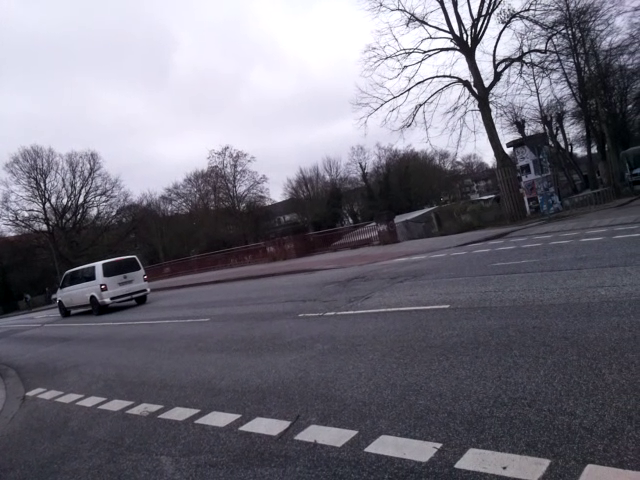car: (54, 250, 154, 322)
